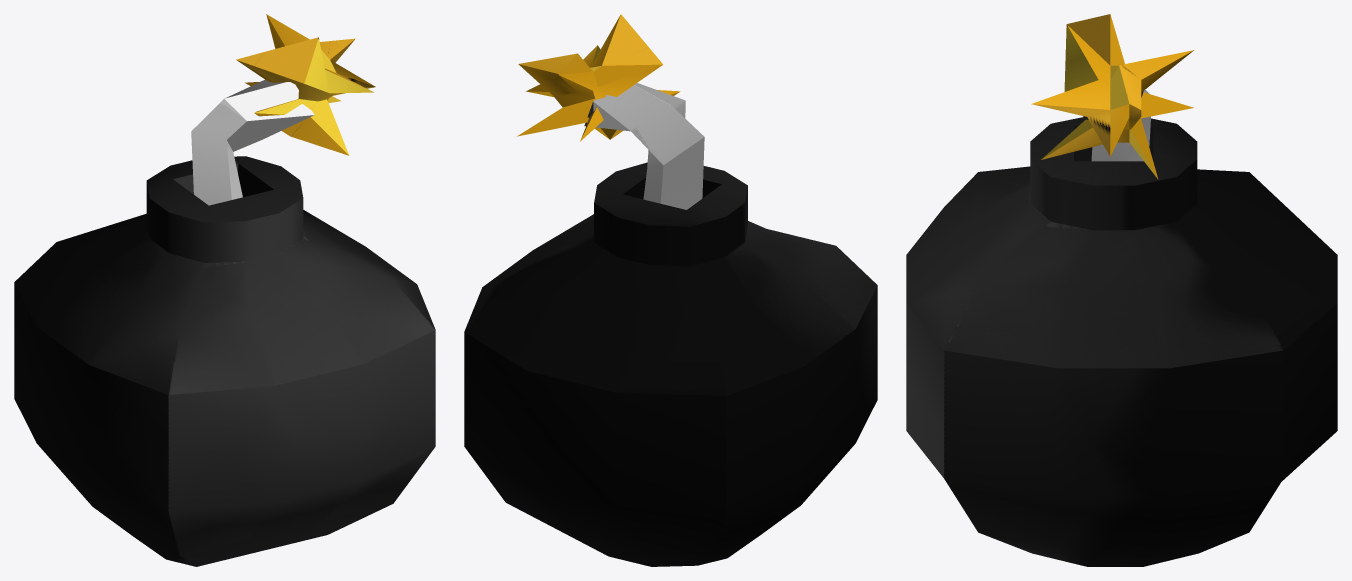
Rendered from BOMB_NOT_BROKEN.fbx.
The picture shows the model from 3 angles, left to right: view 1: azimuth 30°, elevation 25°; view 2: azimuth 150°, elevation 25°; view 3: azimuth 270°, elevation 25°; orthographic projection. The views are drawn at different scales.
Visible parts, largest first — view 1: bomb, explouad; view 2: bomb, explouad; view 3: bomb, explouad.
Boxes of the visible parts, x1,y1,x2,y2 form: bomb: [14, 79, 435, 566]; explouad: [236, 14, 375, 155]; bomb: [464, 83, 877, 566]; explouad: [517, 14, 680, 141]; bomb: [906, 90, 1337, 566]; explouad: [1031, 14, 1193, 179].
Size of the model in its own units: 308 by 446 by 318.
Materials: 1 (1 with a texture image).
